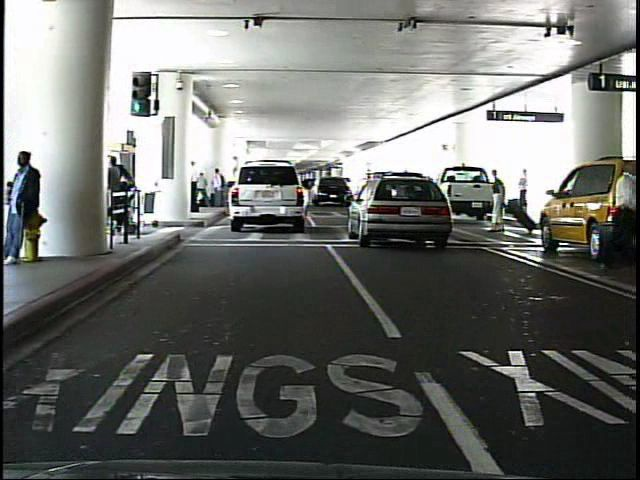person: (7, 148, 48, 266), (608, 156, 640, 263), (489, 167, 509, 233), (519, 166, 533, 216), (213, 167, 228, 209)
